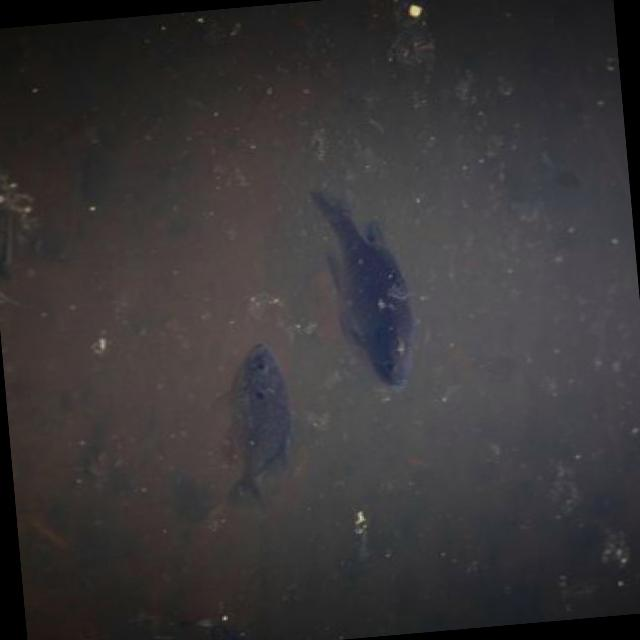Gunes Levregi: (290, 171, 424, 394)
